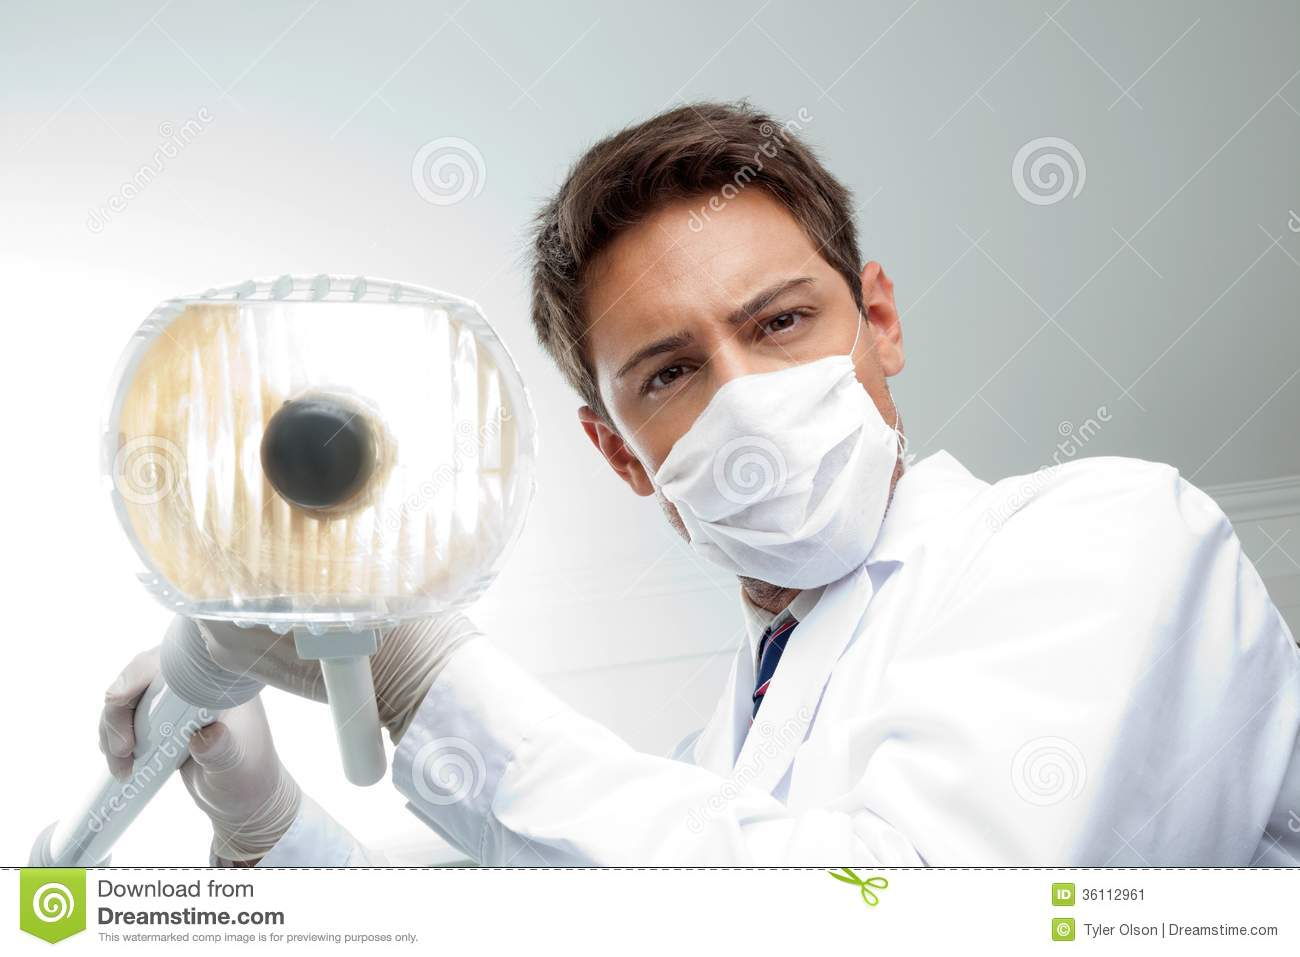mask: (654, 374, 911, 580)
